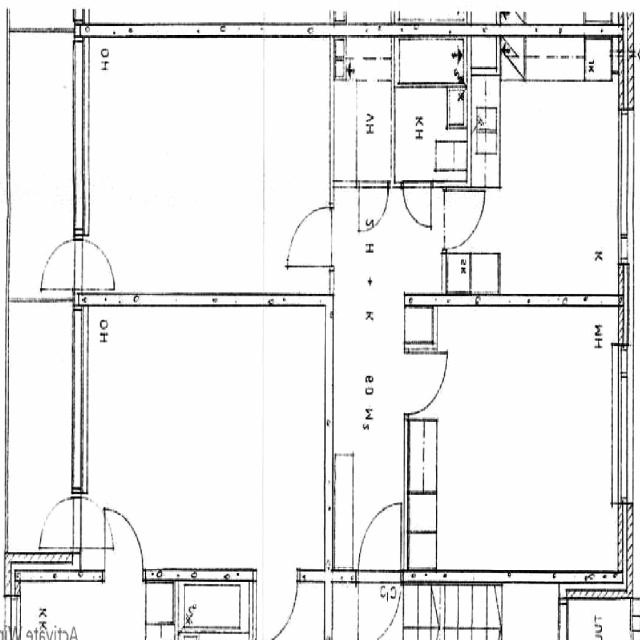door: (358, 505, 402, 584), (358, 571, 402, 640), (405, 354, 448, 416), (442, 190, 484, 250), (292, 208, 334, 266), (43, 240, 83, 290), (75, 240, 114, 290), (359, 181, 388, 233), (403, 181, 431, 231)
